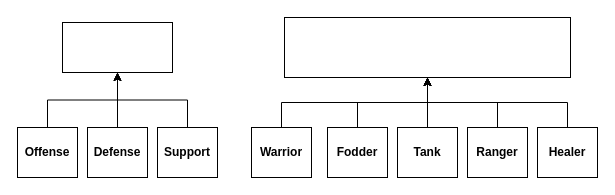
This 615x195 diagram has some shape labels left out. Each missing label, with the box of its shape:
Tower: (62, 22, 172, 72)
Troop: (284, 16, 570, 78)
